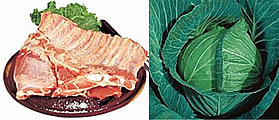cabbage: (178, 25, 264, 96)
